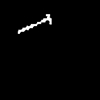half_double_crochet: (18, 14, 50, 33)
